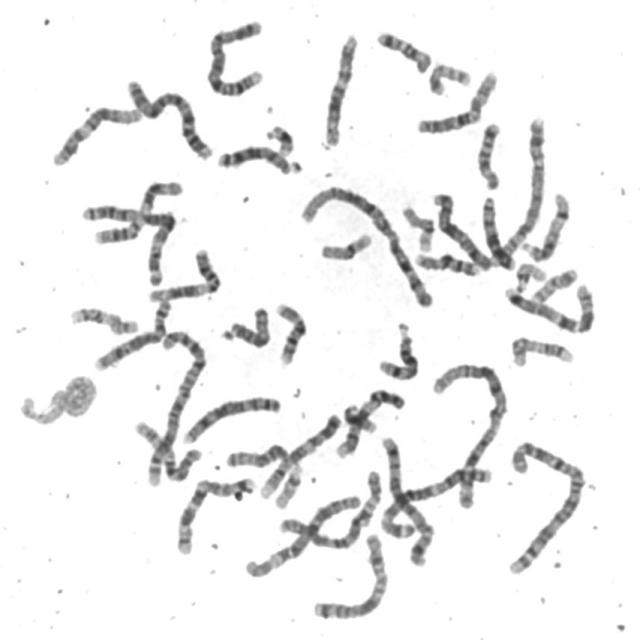A1: (296, 181, 436, 311), (427, 357, 512, 514)
A2: (501, 434, 588, 578), (141, 324, 210, 488)
A3: (376, 462, 496, 541), (80, 199, 177, 289)
B4: (122, 73, 215, 162), (202, 14, 268, 99)
B5: (493, 122, 562, 255), (376, 431, 436, 568)
C10: (412, 66, 500, 136), (130, 415, 204, 482)
C11: (89, 174, 186, 246), (143, 243, 223, 304)
C12: (47, 100, 145, 168), (319, 28, 361, 149)
C6: (239, 488, 364, 580), (276, 465, 384, 550)
C7: (171, 471, 259, 557), (500, 278, 598, 336)
C8: (90, 294, 174, 372), (178, 391, 284, 445)
C9: (255, 409, 344, 501), (333, 384, 408, 460)
D13: (212, 139, 304, 177), (477, 190, 518, 271)
D14: (517, 188, 572, 262), (374, 317, 422, 382)
D15: (224, 438, 302, 480), (221, 302, 273, 349)
E16: (271, 297, 309, 367), (410, 247, 482, 277)
E17: (66, 301, 140, 337), (506, 331, 576, 369)
E18: (371, 25, 434, 74), (473, 116, 505, 192)
F19: (398, 198, 437, 256), (316, 228, 375, 262)
F20: (527, 264, 580, 306), (424, 58, 474, 97)
G21: (339, 399, 380, 435), (260, 118, 297, 157)
G22: (271, 461, 305, 510), (510, 257, 549, 293)
X: (308, 528, 390, 622), (430, 186, 495, 272)
